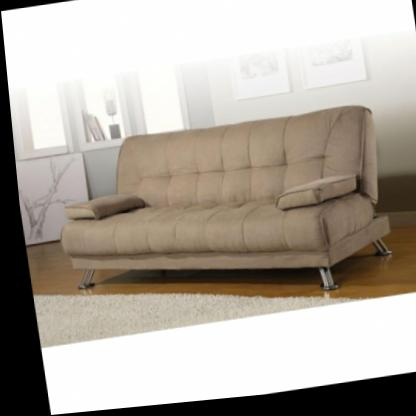Sofa: (41, 106, 391, 330)
